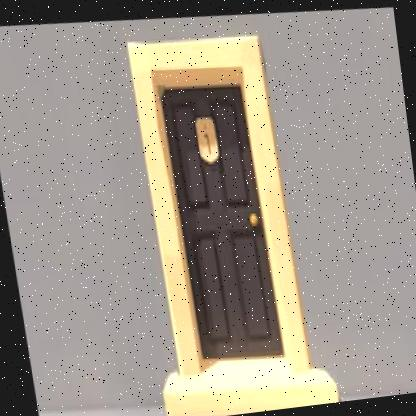door: (150, 52, 294, 376)
